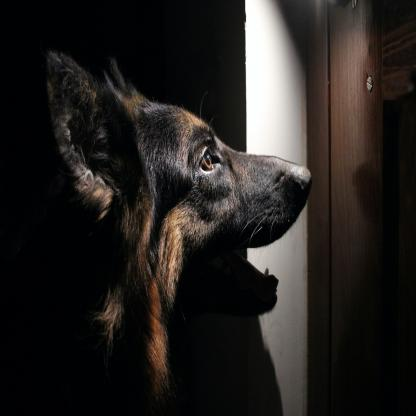german shepherd: (0, 50, 316, 415)
